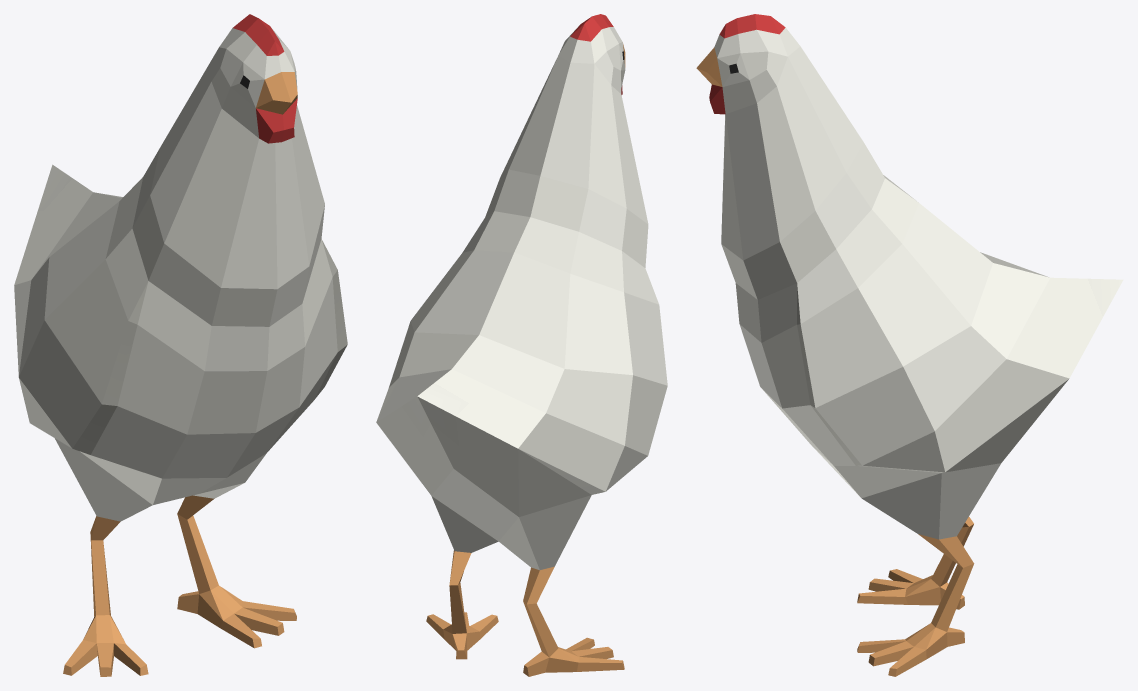
The model's file is Chicken.obj.
3 views of the same model, side by side, from view 1: azimuth 30°, elevation 25°; view 2: azimuth 150°, elevation 25°; view 3: azimuth 270°, elevation 25° (orthographic). The views are drawn at different scales.
Visible parts, largest first — view 1: chickenb:chickenb:Merged_ZSphere2 chickenb:group; view 2: chickenb:chickenb:Merged_ZSphere2 chickenb:group; view 3: chickenb:chickenb:Merged_ZSphere2 chickenb:group.
Boxes of the visible parts, <box> form: chickenb:chickenb:Merged_ZSphere2 chickenb:group: <box>14,14,347,676</box>; chickenb:chickenb:Merged_ZSphere2 chickenb:group: <box>376,14,667,676</box>; chickenb:chickenb:Merged_ZSphere2 chickenb:group: <box>696,14,1123,676</box>.
Size of the model in its own units: 0.8835 by 2.08 by 1.31.
1 material, 1 textured.
